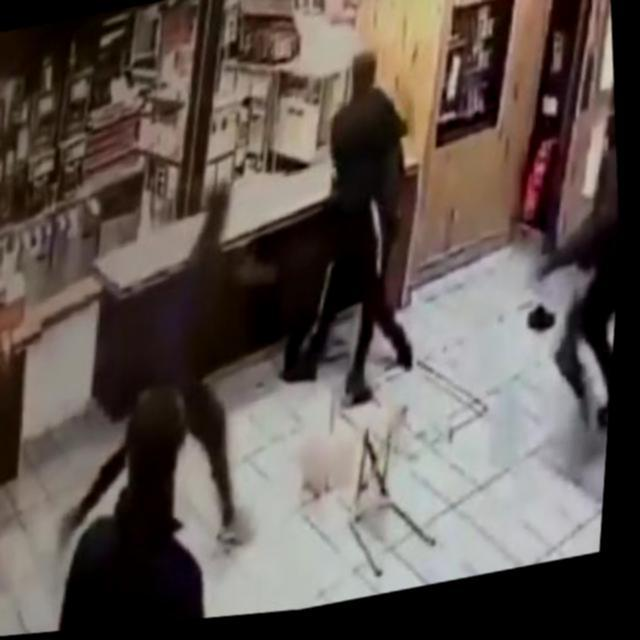fight: (264, 41, 448, 406)
